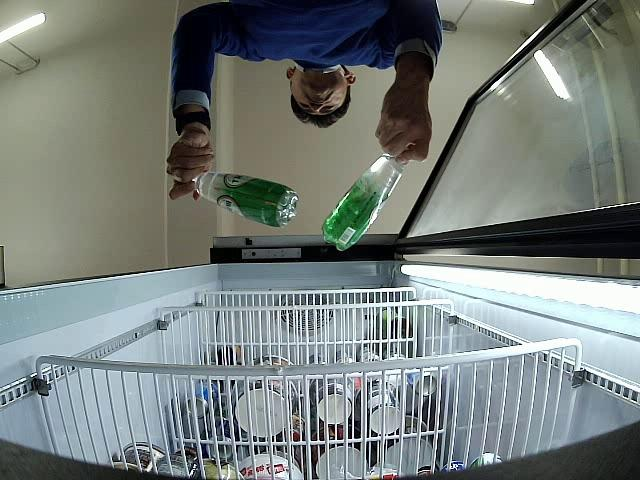00_hand: (375, 75, 431, 165), (166, 130, 214, 201)
18_trevi: (324, 153, 406, 252), (194, 171, 299, 229)
